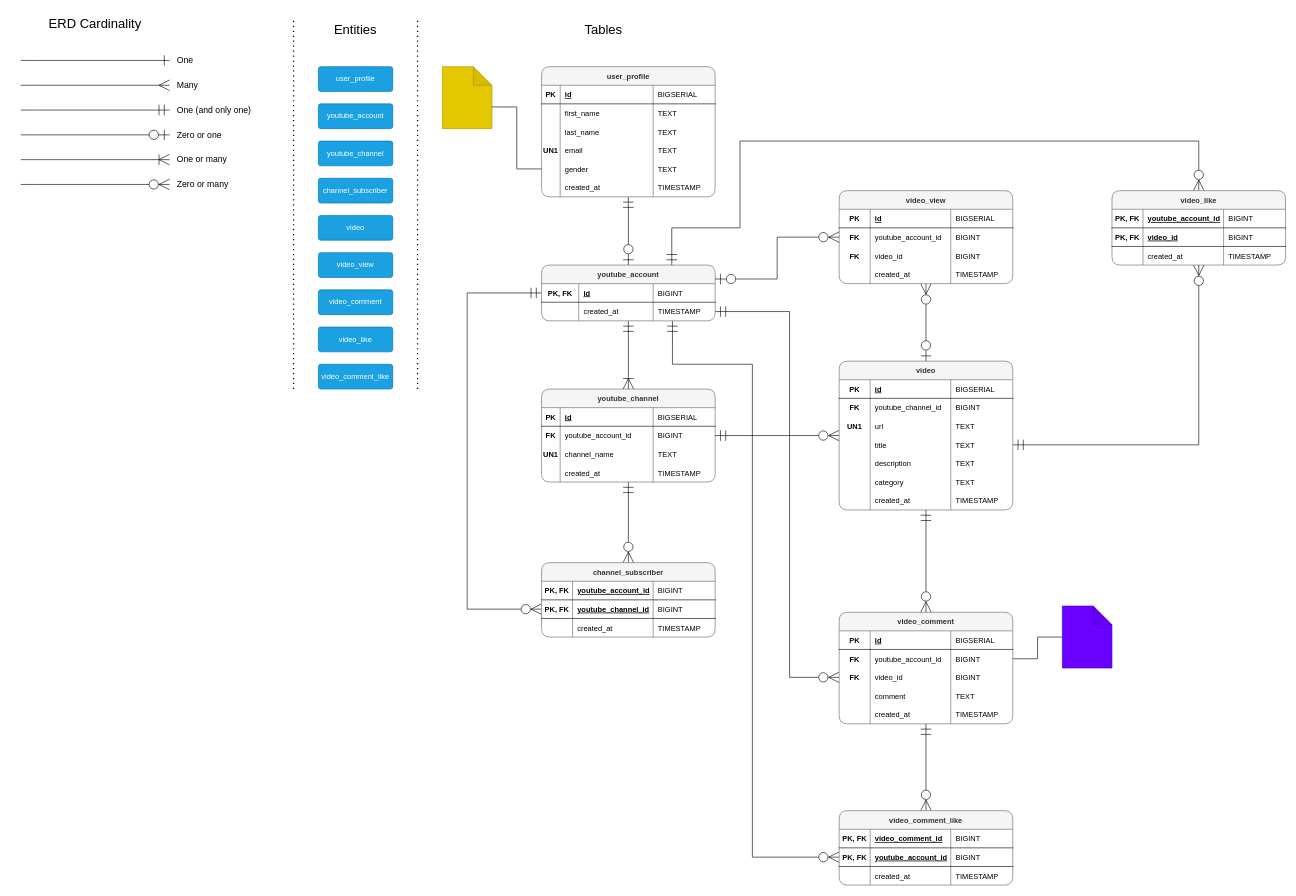
The diagram is 1296 pixels wide and 896 high, and some of its shapes have lost their labels. Each missing label, with the box of its shape:
can be null: (1062, 605, 1112, 668)
MALE, FEMALE: (442, 66, 492, 129)
